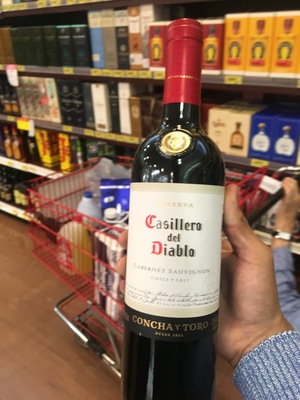casillero del diablo cabernet sauvignon: (126, 24, 233, 396)
